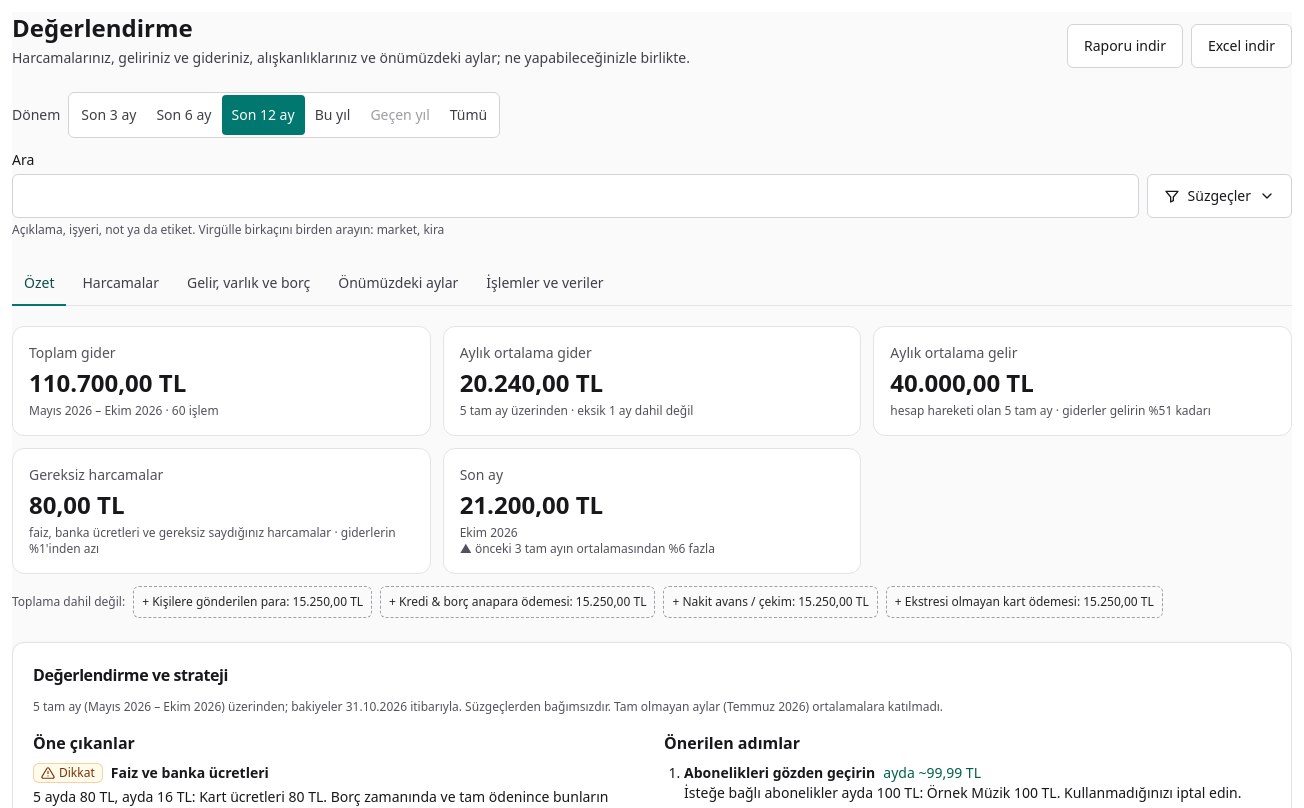
Test case: InsightsPage › opens on the summary and keeps each part one tab away, the tab in the address
Expected: the element "Aylık giderler" is not shown
Click the tab "Harcamalar" at (121, 284), box [70,262,171,306]
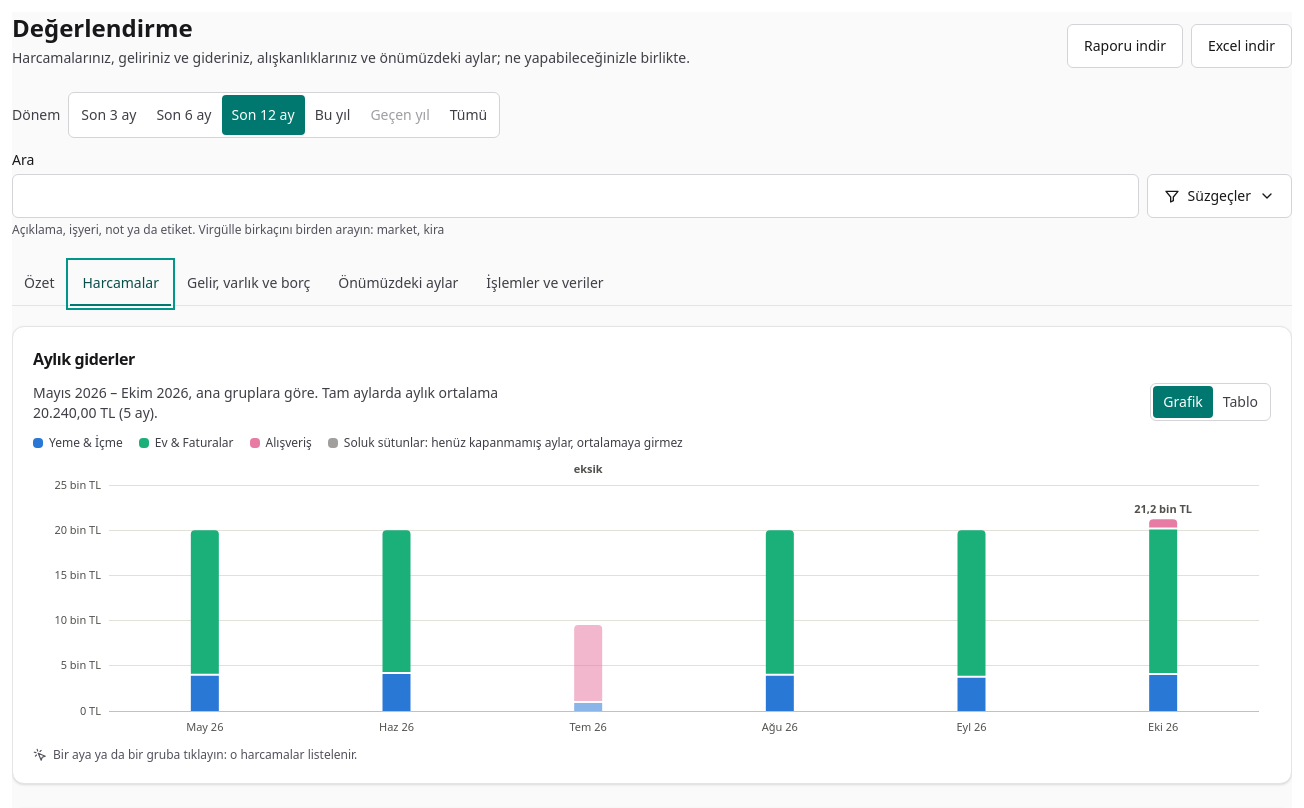
Now the element "Aylık giderler" is shown, box [12,326,1292,784]
